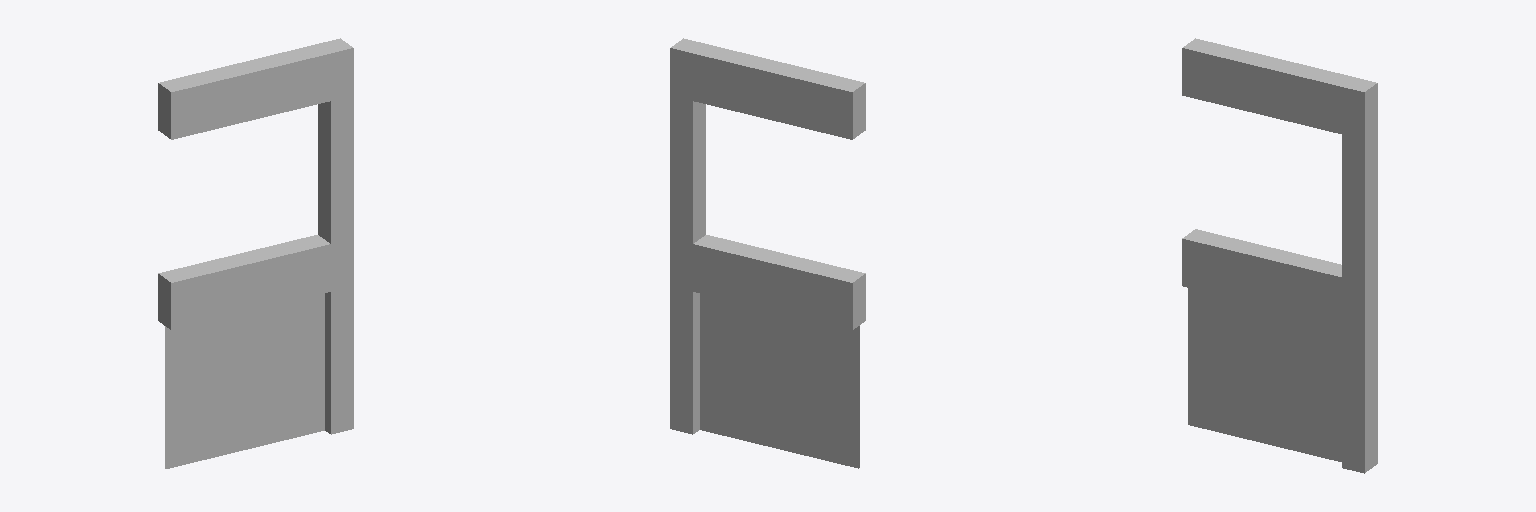
The model's file is right_end.obj.
3 views of the same model, side by side, from view 1: azimuth 30°, elevation 25°; view 2: azimuth 150°, elevation 25°; view 3: azimuth 330°, elevation 25° (orthographic).
Parts seen in each view (by area): view 1: right_end; view 2: right_end; view 3: right_end.
Boxes of the visible parts, x1=… form: right_end: x1=158, y1=38, x2=353, y2=468; right_end: x1=670, y1=38, x2=865, y2=468; right_end: x1=1182, y1=38, x2=1377, y2=473.
Size of the model in its own units: 0.5 by 1 by 0.0625.